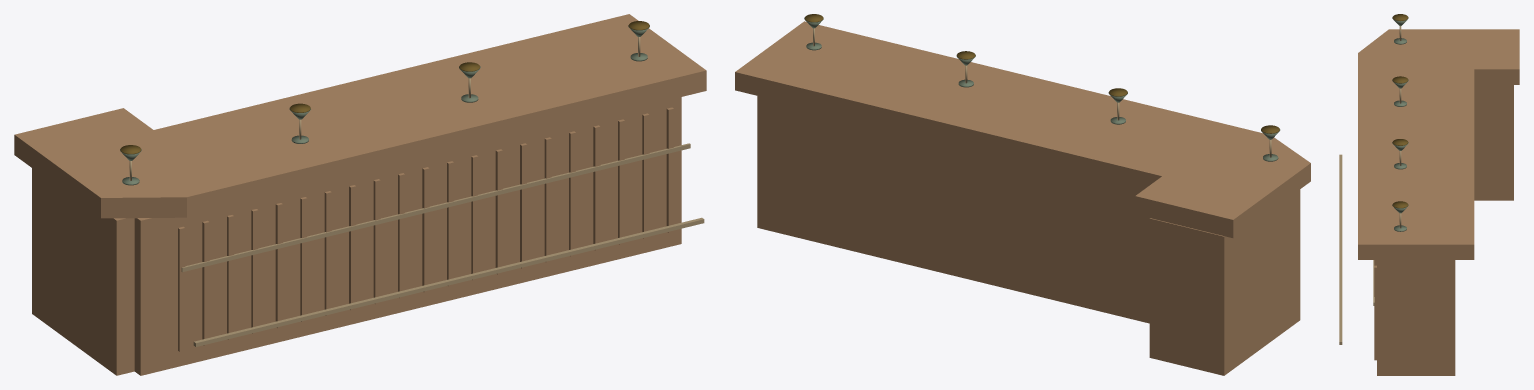
File: yokocho-walnut-counter.glb
The picture shows the model from 3 angles, left to right: view 1: azimuth 30°, elevation 25°; view 2: azimuth 150°, elevation 25°; view 3: azimuth 270°, elevation 25°; orthographic projection. The views are drawn at different scales.
Visible parts, largest first — view 1: Shops/S06/Personality/SteppedWalnutCounter__Night_Walnut, Shops/S06/Personality/SteppedWalnutCounter__DarkTimber, Shops/S06/Personality/SteppedWalnutCounter__Bronze, Shops/S06/Personality/SteppedWalnutCounter__Night_SmokyGlass, Shops/S06/Personality/SteppedWalnutCounter__Tea; view 2: Shops/S06/Personality/SteppedWalnutCounter__Night_Walnut, Shops/S06/Personality/SteppedWalnutCounter__Night_SmokyGlass, Shops/S06/Personality/SteppedWalnutCounter__Tea; view 3: Shops/S06/Personality/SteppedWalnutCounter__Night_Walnut, Shops/S06/Personality/SteppedWalnutCounter__Bronze, Shops/S06/Personality/SteppedWalnutCounter__Night_SmokyGlass, Shops/S06/Personality/SteppedWalnutCounter__Tea, Shops/S06/Personality/SteppedWalnutCounter__DarkTimber.
Boxes of the visible parts, x1,y1,x2,y2 form: Shops/S06/Personality/SteppedWalnutCounter__Night_Walnut: [14, 14, 706, 375]; Shops/S06/Personality/SteppedWalnutCounter__DarkTimber: [178, 107, 673, 351]; Shops/S06/Personality/SteppedWalnutCounter__Bronze: [129, 37, 704, 346]; Shops/S06/Personality/SteppedWalnutCounter__Night_SmokyGlass: [120, 25, 649, 185]; Shops/S06/Personality/SteppedWalnutCounter__Tea: [120, 21, 649, 154]; Shops/S06/Personality/SteppedWalnutCounter__Night_Walnut: [735, 21, 1310, 375]; Shops/S06/Personality/SteppedWalnutCounter__Night_SmokyGlass: [804, 17, 1280, 161]; Shops/S06/Personality/SteppedWalnutCounter__Tea: [805, 14, 1279, 133]; Shops/S06/Personality/SteppedWalnutCounter__Night_Walnut: [1358, 29, 1519, 375]; Shops/S06/Personality/SteppedWalnutCounter__Bronze: [1339, 26, 1401, 344]; Shops/S06/Personality/SteppedWalnutCounter__Night_SmokyGlass: [1392, 17, 1408, 231]; Shops/S06/Personality/SteppedWalnutCounter__Tea: [1392, 14, 1408, 208]; Shops/S06/Personality/SteppedWalnutCounter__DarkTimber: [1374, 260, 1376, 360].
Size of the model in its own units: 3.59 by 1.25 by 1.27.
